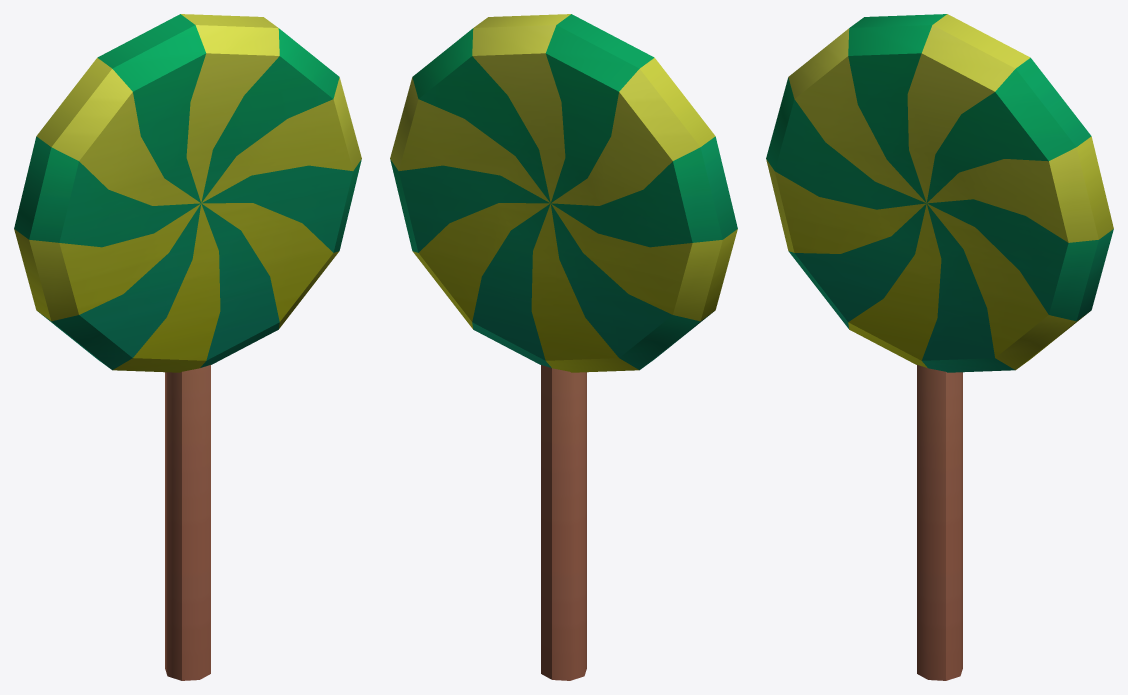
The model's file is lollipop_green.glb.
3 renders of one model, left to right at view 1: azimuth 30°, elevation 25°; view 2: azimuth 150°, elevation 25°; view 3: azimuth 330°, elevation 25°, orthographic.
Visible parts, largest first — view 1: lollipop_green; view 2: lollipop_green; view 3: lollipop_green.
Part boxes in pixels (x1=…): lollipop_green: x1=14, y1=14, x2=361, y2=680; lollipop_green: x1=390, y1=14, x2=737, y2=680; lollipop_green: x1=766, y1=14, x2=1113, y2=680.
Size of the model in its own units: 0.65 by 1.23 by 0.1239.
Materials: 1 (1 with a texture image).
